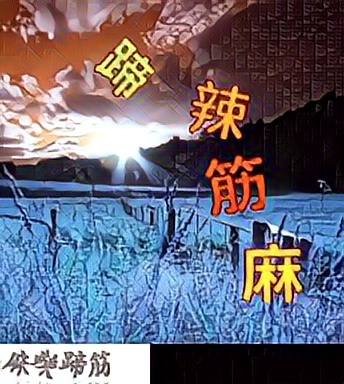BDEE: (204, 154, 268, 220)
C0B1: (188, 75, 252, 141)
C2E9: (240, 239, 304, 305)
CCE3: (91, 37, 155, 103)
